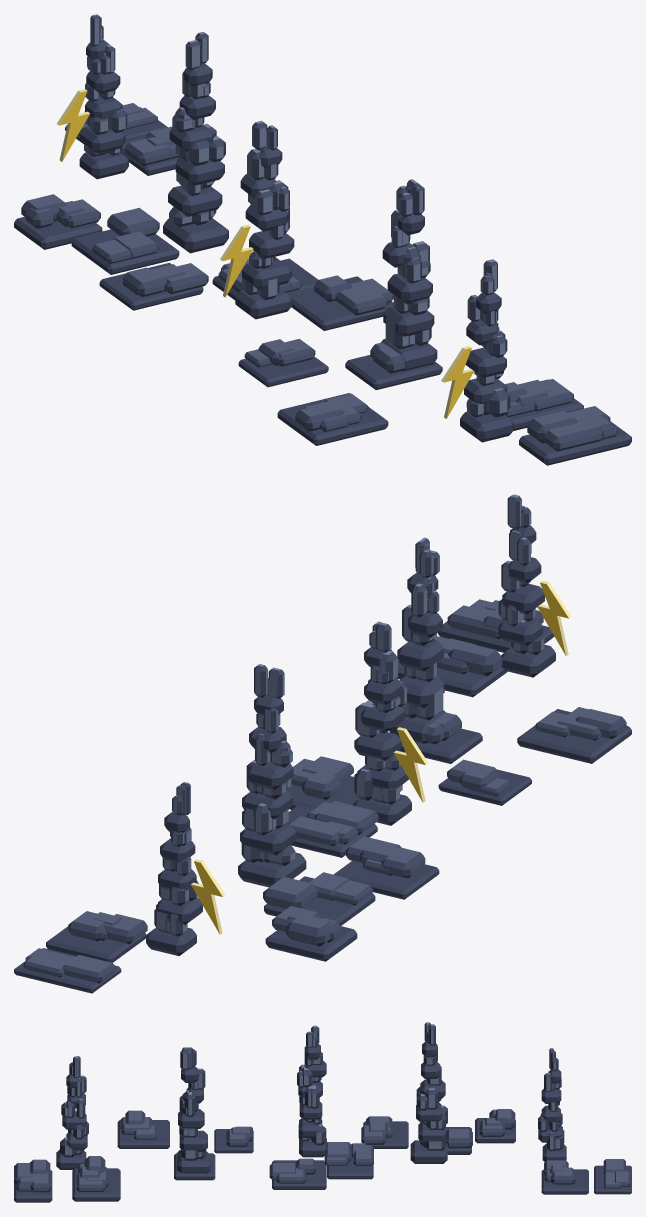
The model's file is tormenta_LadoDer.glb.
The picture shows the model from 3 angles, top to bottom: view 1: azimuth 30°, elevation 25°; view 2: azimuth 150°, elevation 25°; view 3: azimuth 270°, elevation 25°; orthographic projection. The views are drawn at different scales.
Parts seen in each view (by area): view 1: Mapa_tormenta_LadoDer; view 2: Mapa_tormenta_LadoDer; view 3: Mapa_tormenta_LadoDer.
Part boxes in pixels (x1,y1,x2,y2): Mapa_tormenta_LadoDer: [14, 14, 631, 465]; Mapa_tormenta_LadoDer: [14, 494, 631, 993]; Mapa_tormenta_LadoDer: [14, 1022, 631, 1202].
Bounding box in the file's own units: 110 × 90.95 × 362.
1 material, 1 textured.
